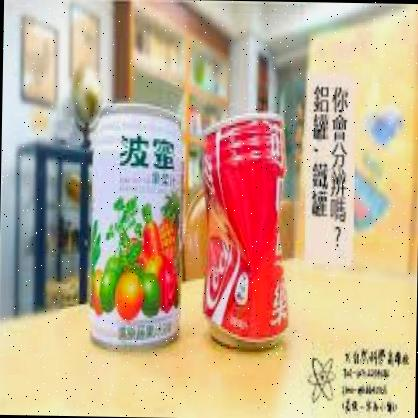can: (86, 102, 182, 351), (196, 107, 292, 348)
